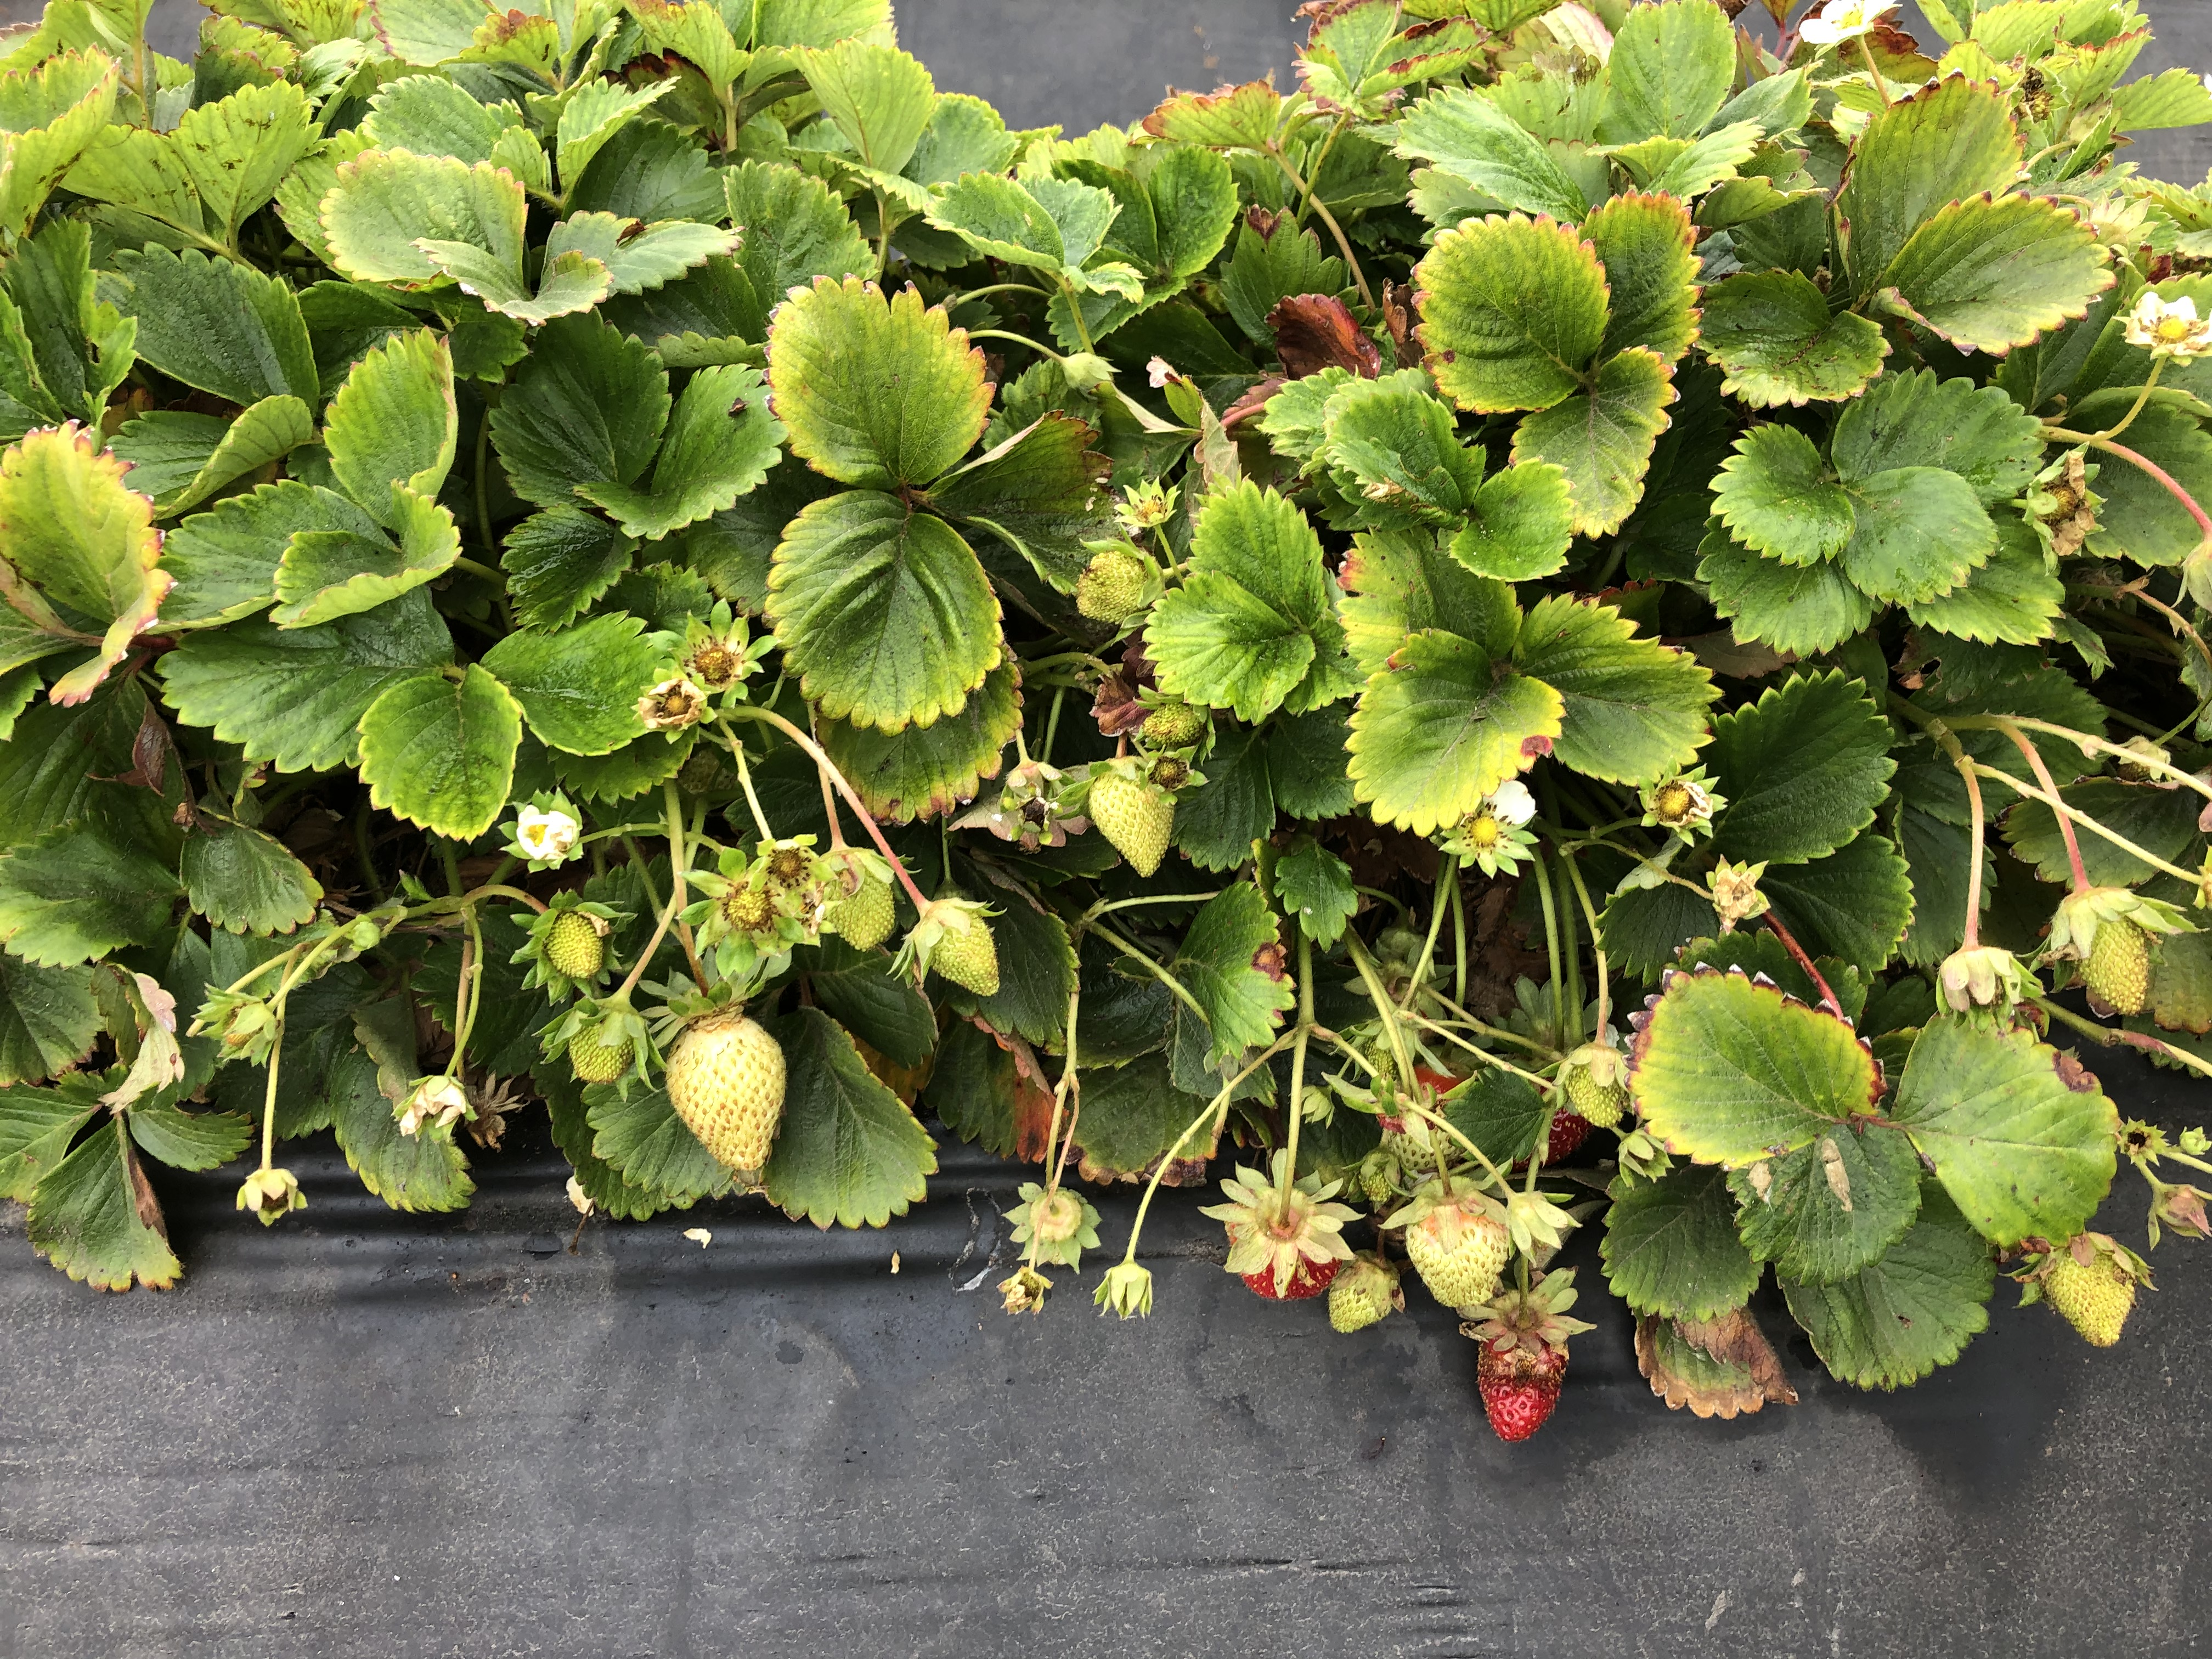ripe_strawberry: (1221, 1187, 1348, 1307), (1468, 1304, 1573, 1445), (1510, 1058, 1590, 1173), (1378, 1058, 1477, 1133)
unripe_strawberry: (665, 1006, 796, 1176), (1404, 1175, 1515, 1316), (2040, 1227, 2149, 1358), (2055, 885, 2158, 1014), (1085, 762, 1186, 882), (911, 896, 1008, 1004), (819, 843, 906, 953), (1069, 545, 1162, 624), (563, 1000, 639, 1089), (1557, 1042, 1629, 1131), (529, 904, 610, 983), (1331, 1249, 1395, 1330), (1137, 690, 1217, 755), (1379, 1124, 1468, 1173), (1359, 1152, 1399, 1209)
